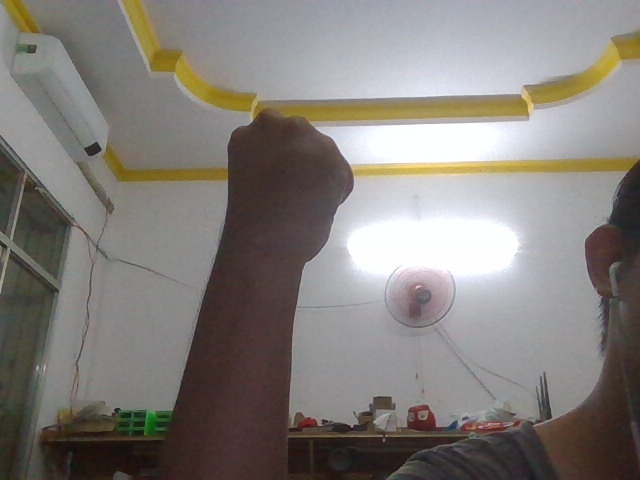fist: (202, 107, 358, 310)
